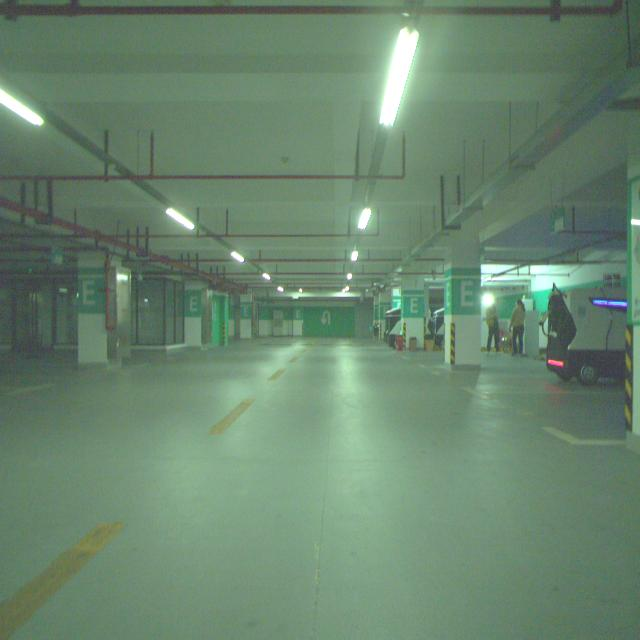pillar: (445, 231, 481, 369)
